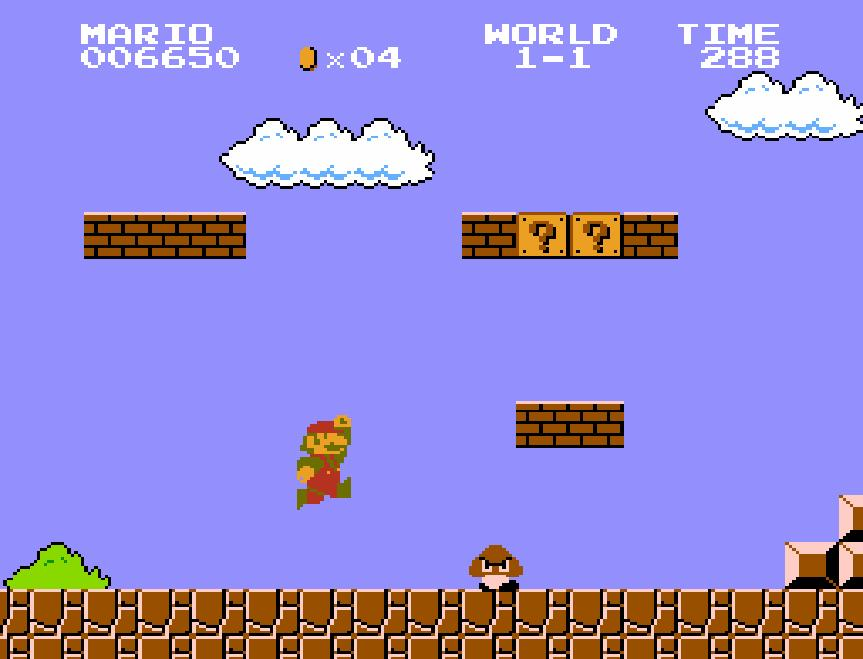big_mario: (294, 414, 352, 512)
